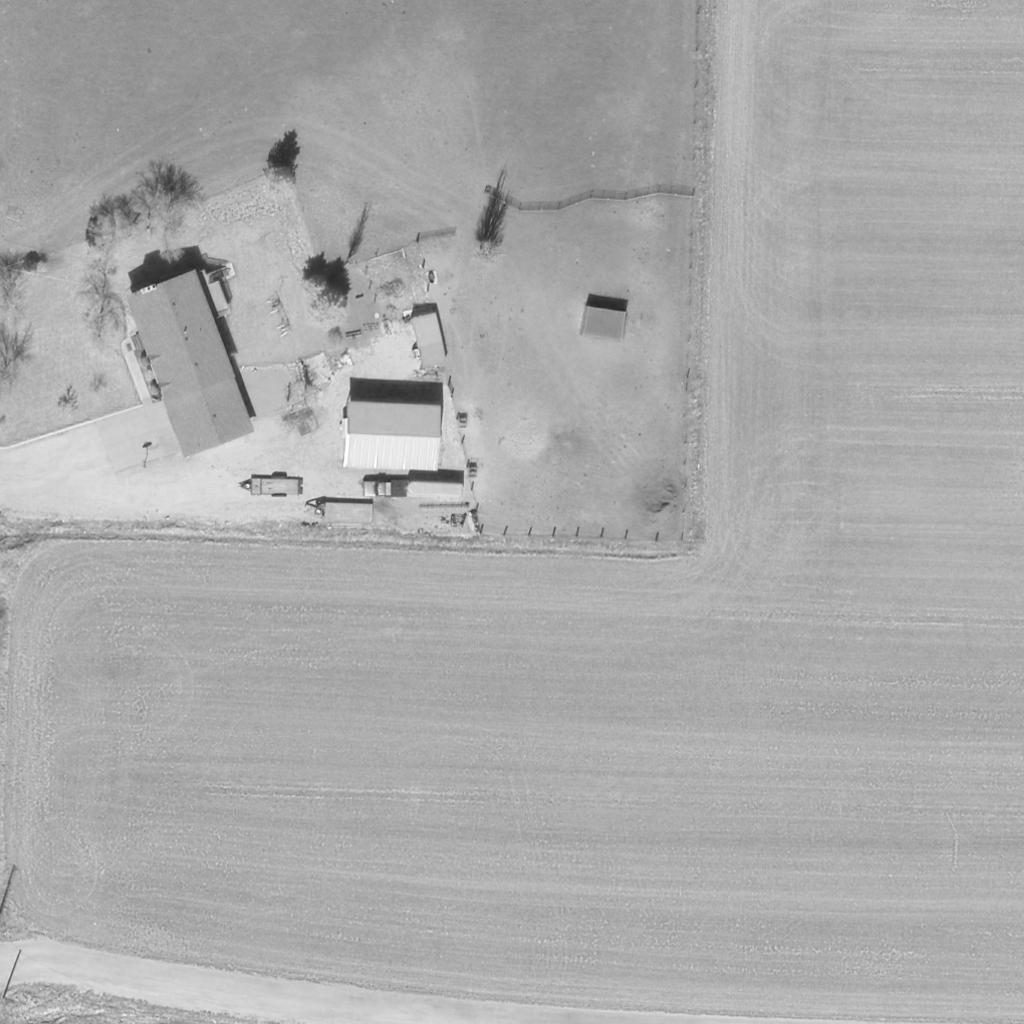vehicle: (359, 480, 411, 498)
